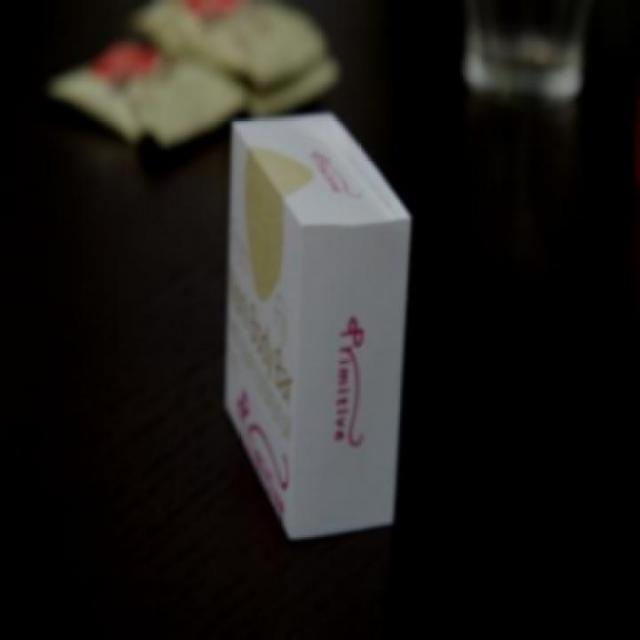box: (189, 125, 425, 574)
